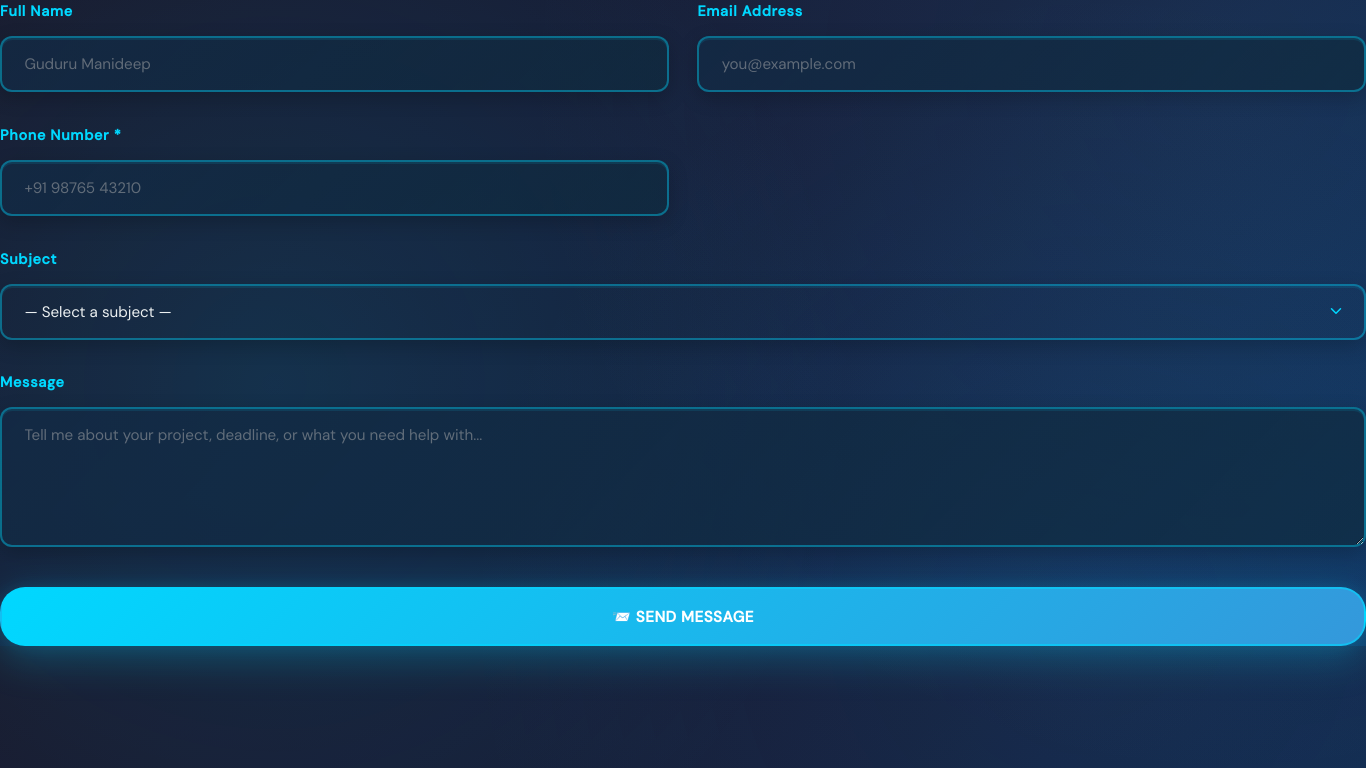
Test: ContactForm › shows validation errors when submitted empty
Click the button "📨 Send Message" at (683, 616), box 0,587 -> 1365,646
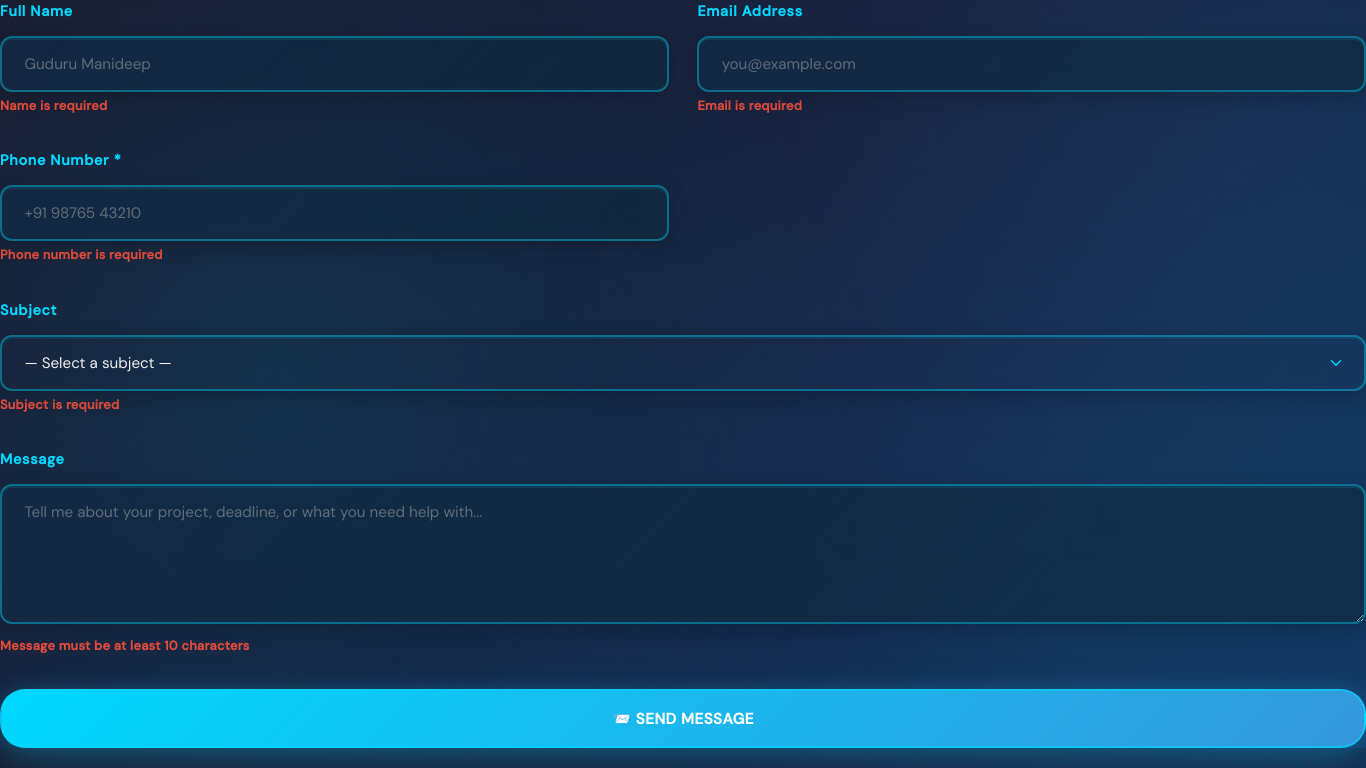
expect the text "Name is required" is shown: met, box 0,97 -> 107,114
expect the text "Email is required" is shown: met, box 697,97 -> 802,114
